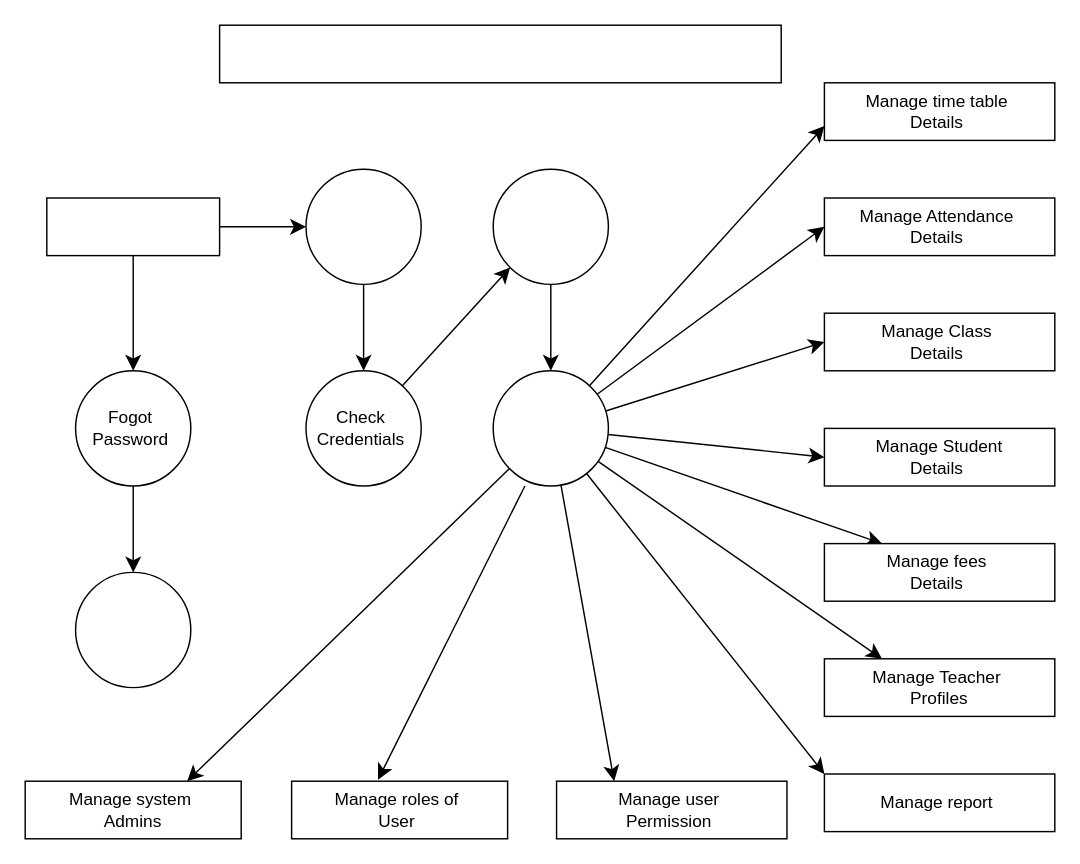
Some shapes in this 1080 by 864 pixel diagram are drawn without their labels. Here are the shapes that lost their labels. From the top down, the box of each, then its label:
(218, 24, 781, 83): Student information system
(45, 197, 220, 256): Admin
(305, 168, 421, 284): Login to System
(492, 168, 608, 284): Check roles Of Access
(492, 369, 608, 486): Manage Modules
(74, 571, 191, 688): Send Email To user
